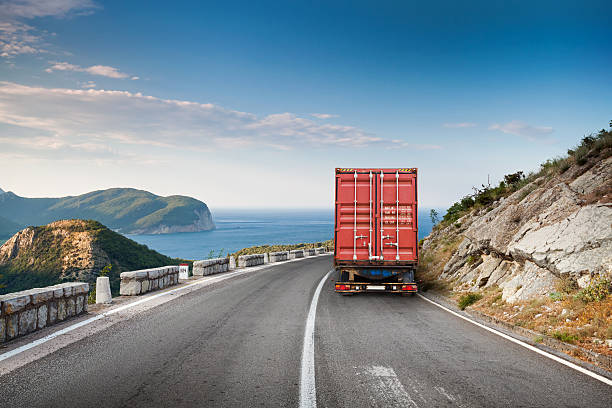Semi: (333, 167, 418, 297)
